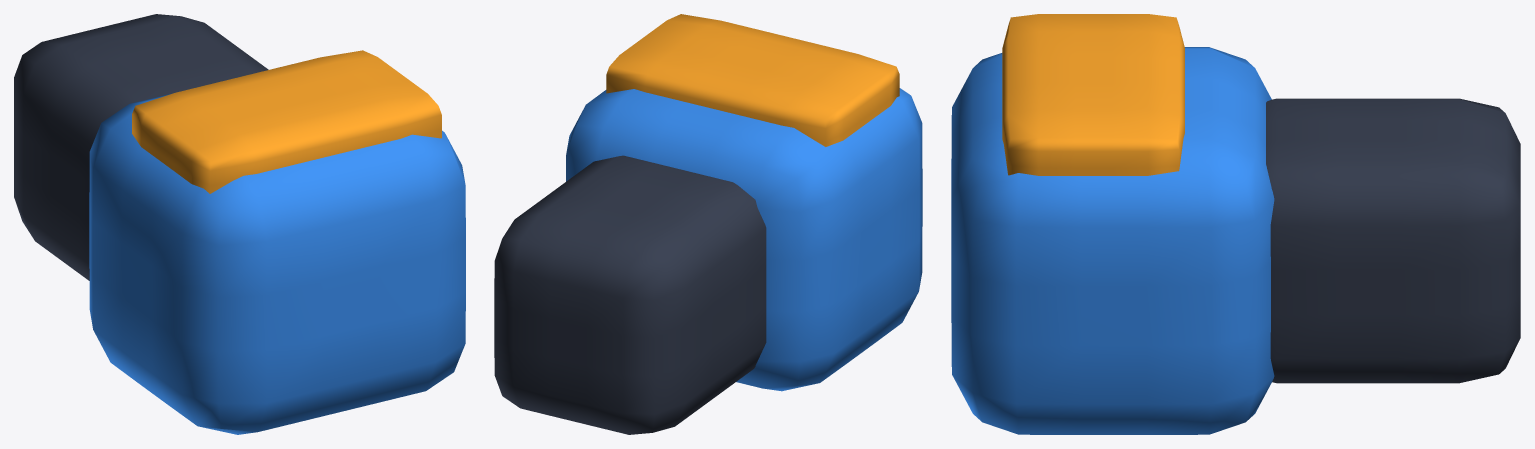
File: glove_titan.obj
The picture shows the model from 3 angles, left to right: view 1: azimuth 30°, elevation 25°; view 2: azimuth 150°, elevation 25°; view 3: azimuth 270°, elevation 25°; orthographic projection. The views are drawn at different scales.
Size of the model in its own units: 0.35 by 0.345 by 0.56.
